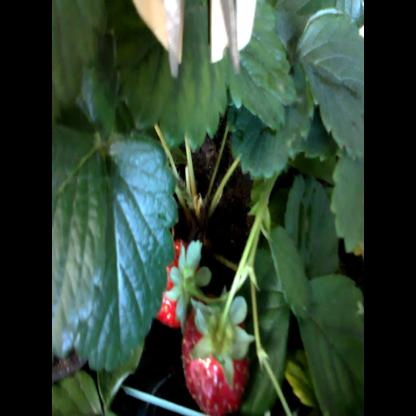ripe: (175, 289, 271, 416), (139, 232, 199, 324)
